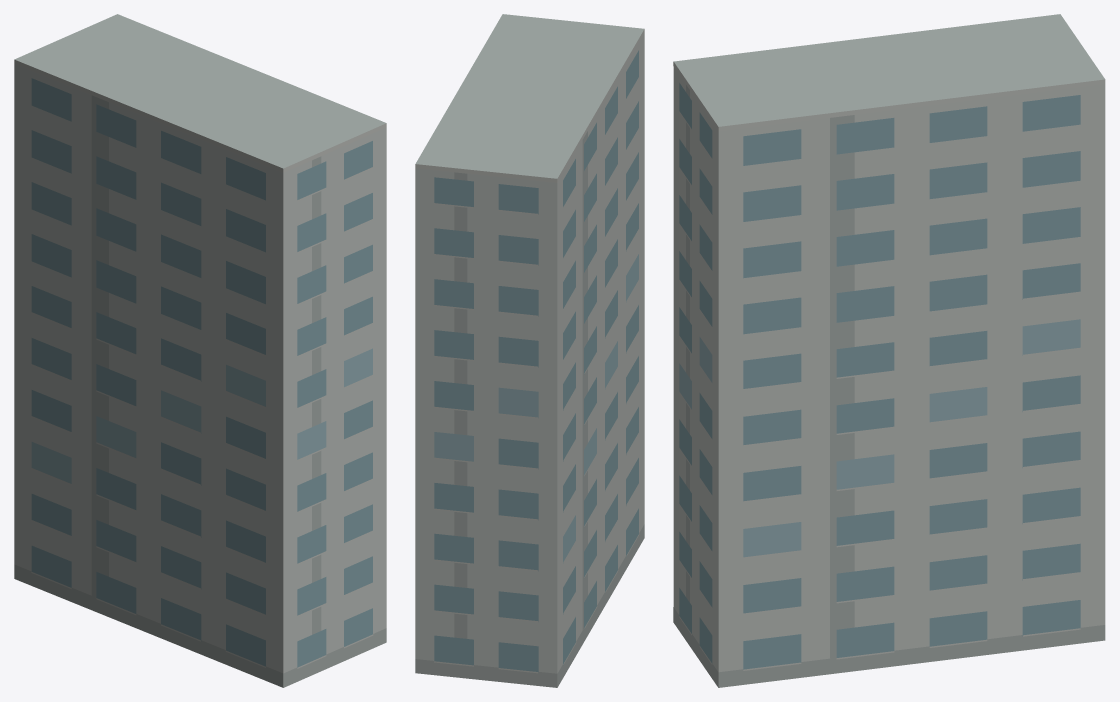
The model's file is residential-0cad6db6-c86c-430d-9a01-2bdb02ed3ef4.glb.
3 views of the same model, side by side, from view 1: azimuth 30°, elevation 25°; view 2: azimuth 150°, elevation 25°; view 3: azimuth 270°, elevation 25° (orthographic). The views are drawn at different scales.
Visible parts, largest first — view 1: residential-0cad6db6-c86c-430d-9a01-2bdb02ed3ef4.tmp; view 2: residential-0cad6db6-c86c-430d-9a01-2bdb02ed3ef4.tmp; view 3: residential-0cad6db6-c86c-430d-9a01-2bdb02ed3ef4.tmp.
Part boxes in pixels (bbox=[...]): residential-0cad6db6-c86c-430d-9a01-2bdb02ed3ef4.tmp: bbox=[14, 14, 386, 687]; residential-0cad6db6-c86c-430d-9a01-2bdb02ed3ef4.tmp: bbox=[415, 14, 644, 687]; residential-0cad6db6-c86c-430d-9a01-2bdb02ed3ef4.tmp: bbox=[673, 14, 1105, 687].
Size of the model in its own units: 12.52 by 29 by 20.24.
